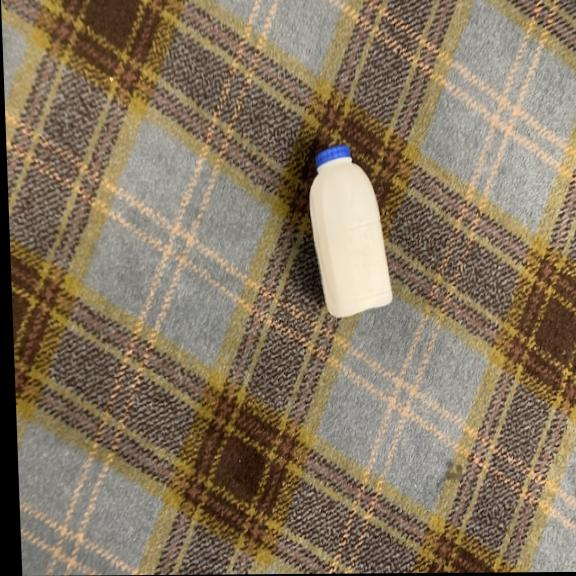Plastik: (301, 138, 399, 321)
